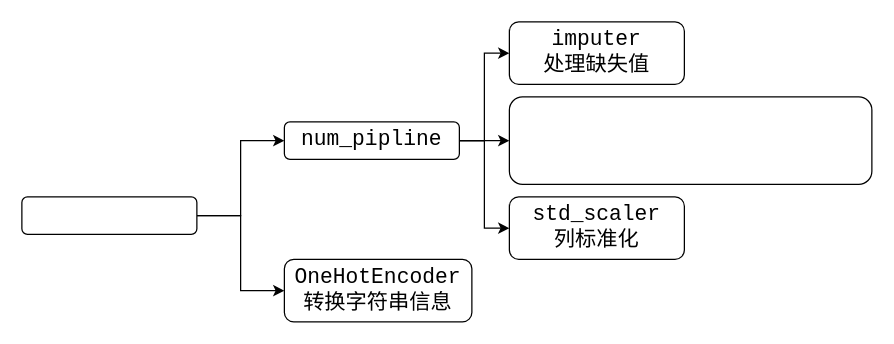
The diagram is 894 pixels wide and 344 high, and some of its shapes have lost their labels. Here are the shapes that lost their labels. From the top down, the centre of each, then its label:
the point at 690,140: attribs_adder 添加额外属性 参数:add_bedrooms_per_rooms
the point at 109,215: full_pipline
